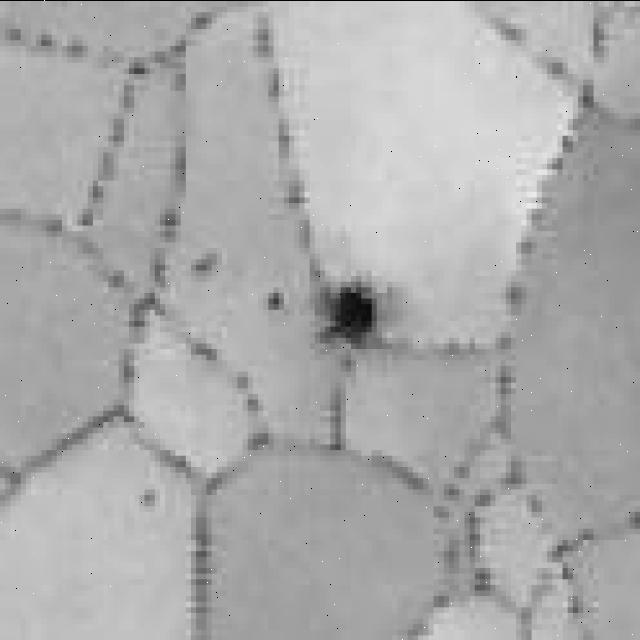good_void: (328, 276, 382, 345), (190, 251, 223, 273), (264, 289, 290, 316), (143, 487, 160, 506)
